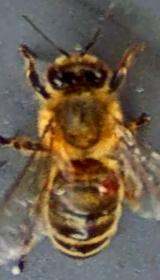varroa_mite: (85, 167, 134, 203)
